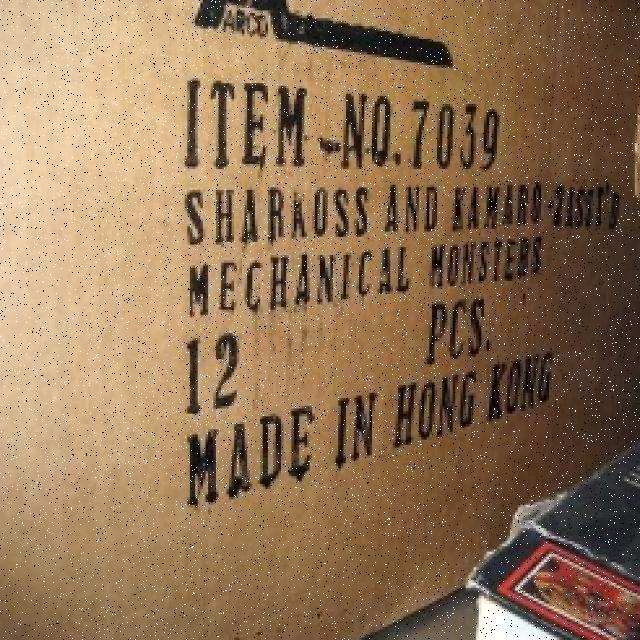box: (0, 0, 640, 640), (460, 447, 640, 640)
